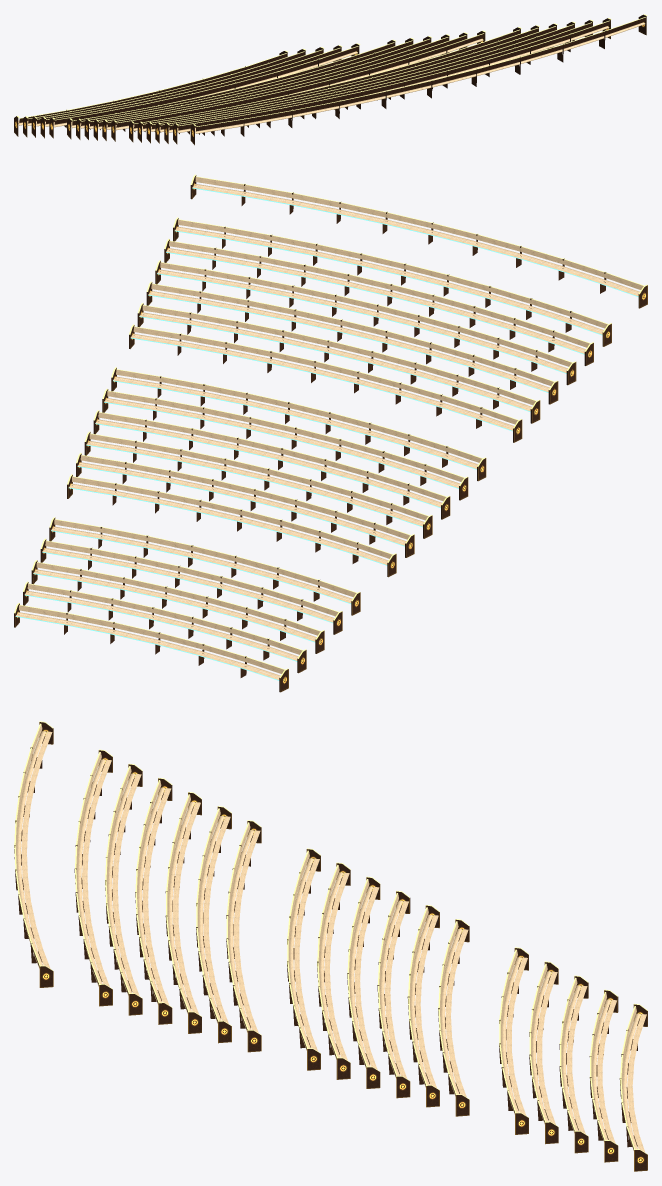
The model's file is mwm_mudbench2_wedge_t.glb.
3 renders of one model, top to bottom at view 1: azimuth 30°, elevation 25°; view 2: azimuth 150°, elevation 25°; view 3: azimuth 270°, elevation 25°, orthographic. The views are drawn at different scales.
Parts seen in each view (by area): view 1: walnut, gold, cypress, endpanel; view 2: cypress, edge_t, gold, walnut, endpanel; view 3: cypress, endpanel, gold, walnut.
Boxes of the visible parts, x1,y1,x2,y2 form: walnut: (19,17,646,136); gold: (17,14,647,126); cypress: (18,22,645,133); endpanel: (14,14,646,145); cypress: (16,177,643,679); edge_t: (15,187,638,680); gold: (14,174,647,677); walnut: (14,184,639,692); endpanel: (15,175,647,691); cypress: (15,724,646,1152); endpanel: (39,722,647,1171); gold: (14,721,647,1154); walnut: (14,728,647,1149).
Size of the model in its own units: 33.54 by 16.24 by 36.63.
5 materials, 3 textured.
